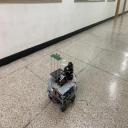cart: (47, 73, 77, 112)
